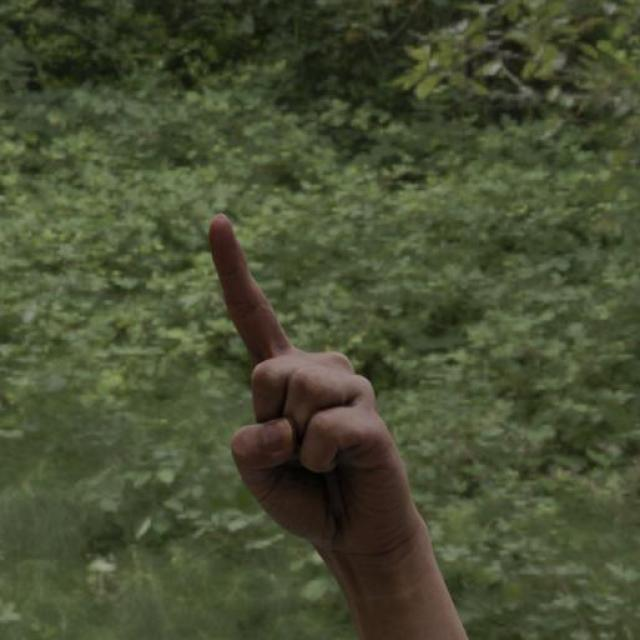Z: (196, 204, 424, 567)
